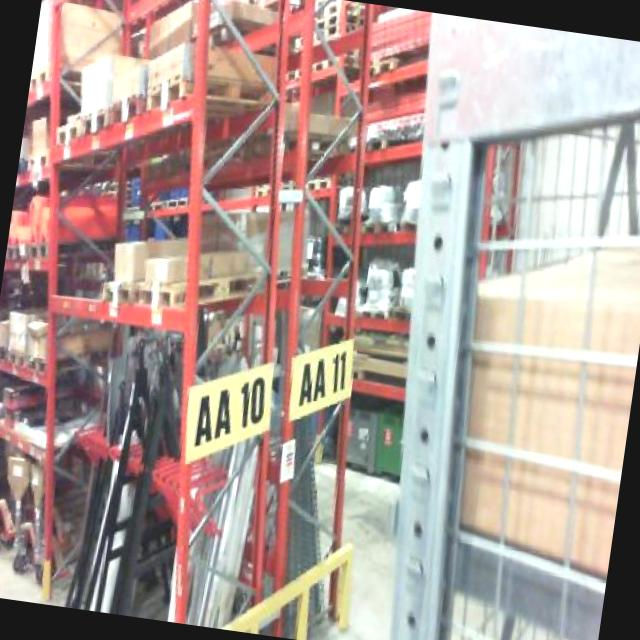pallet: (48, 55, 208, 172), (86, 272, 222, 324)
